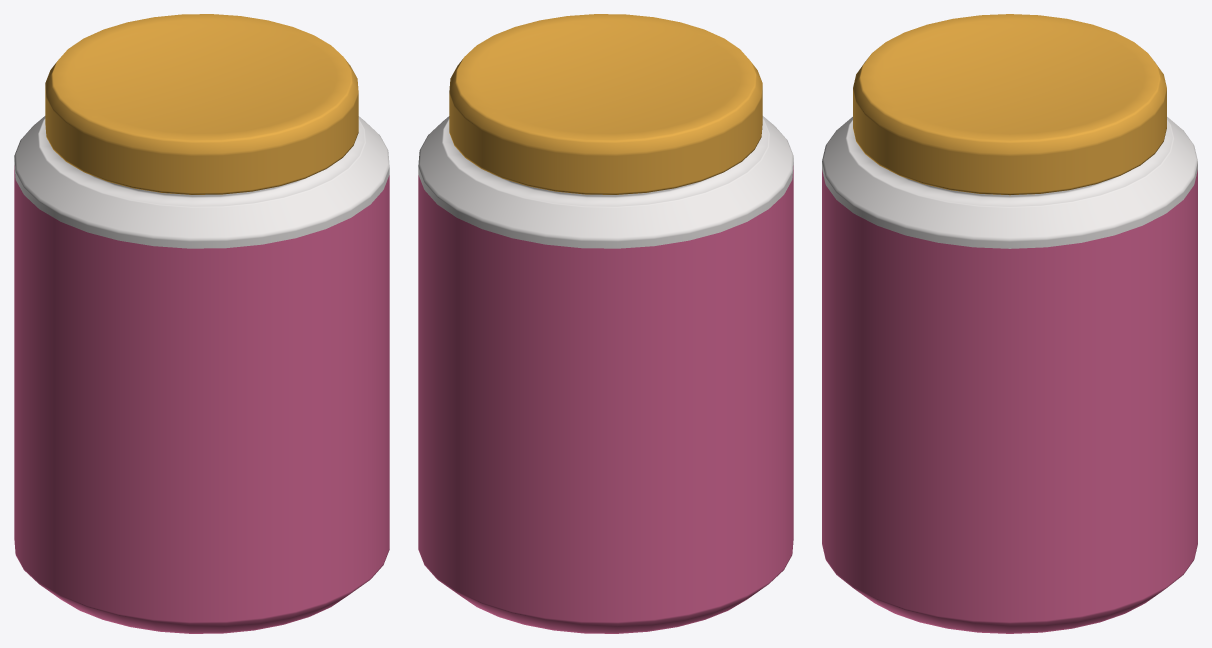
File: selai stroberi.fbx
3 views of the same model, side by side, from view 1: azimuth 30°, elevation 25°; view 2: azimuth 150°, elevation 25°; view 3: azimuth 270°, elevation 25° (orthographic).
Visible parts, largest first — view 1: Cylinder, Cylinder.001; view 2: Cylinder, Cylinder.001; view 3: Cylinder, Cylinder.001.
Part boxes in pixels (x1,y1,x2,y2): Cylinder: [14, 116, 389, 633]; Cylinder.001: [45, 14, 358, 194]; Cylinder: [418, 116, 793, 633]; Cylinder.001: [449, 14, 762, 194]; Cylinder: [822, 117, 1197, 633]; Cylinder.001: [853, 14, 1166, 195].
Size of the model in its own units: 83.38 by 120 by 83.38.
